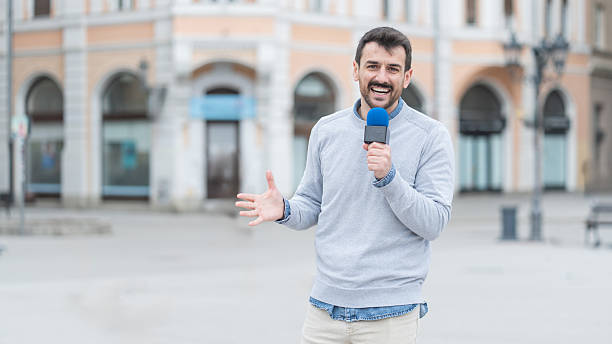Male: (231, 26, 470, 341)
